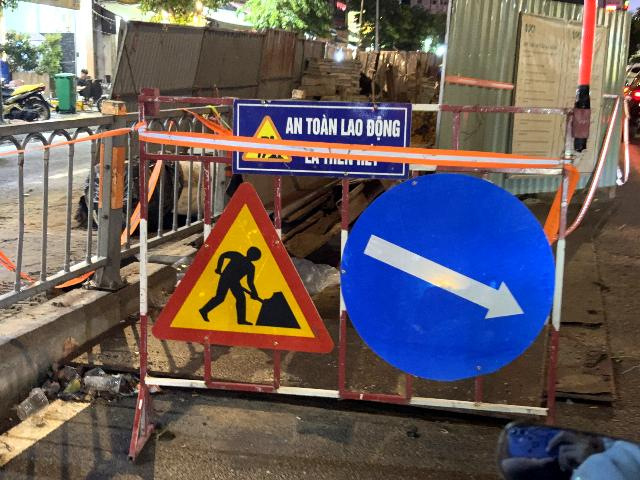cong-truong-dang-thi-cong: (151, 182, 334, 353)
huong-phai-di-vong-chuong-ngai-vat: (340, 174, 555, 383)
